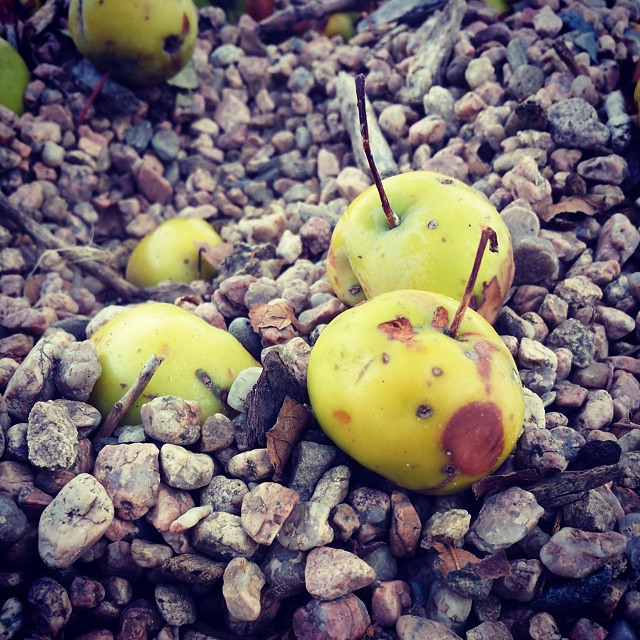apple: (302, 287, 528, 497), (323, 168, 519, 334)
